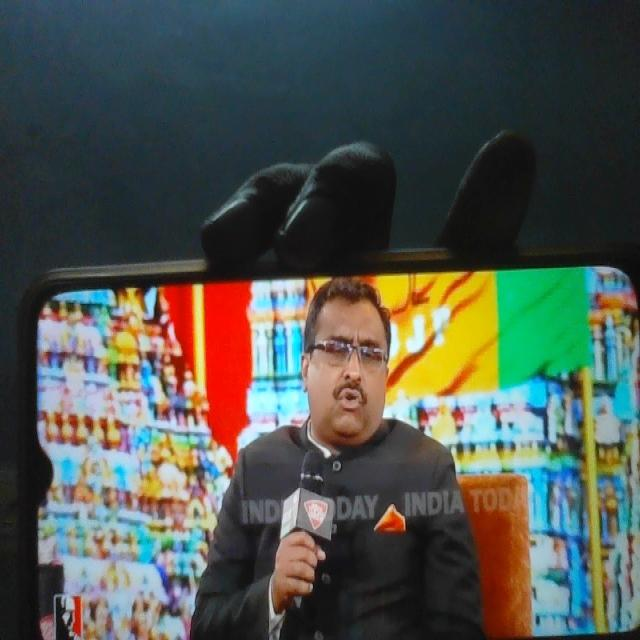fake: (287, 238, 408, 466)
